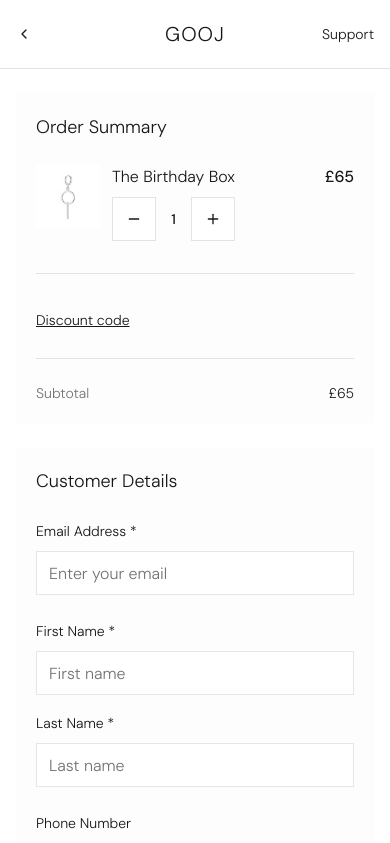
it: checkout promotion flow › shows an error for an invalid promotion
The width and height of the screenshot is (390, 843).
Click the button "Discount code" at (83, 320), box x1=36 y1=298 x2=130 y2=342
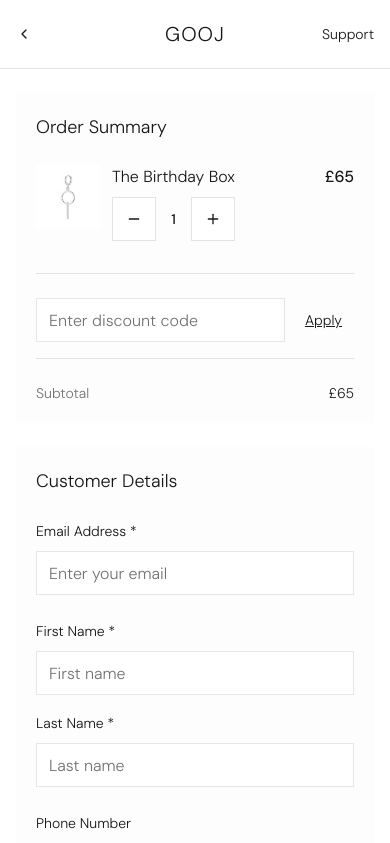
Type "missing" into the field with placeholder "Enter discount code" at (160, 320), box x1=36 y1=298 x2=285 y2=342
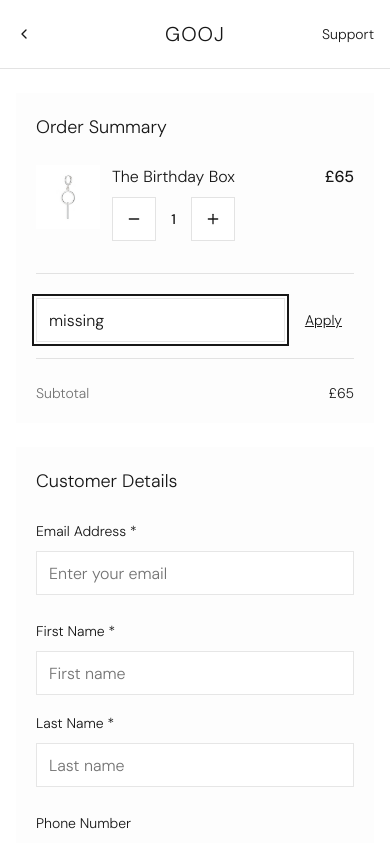
Click the button "Apply" at (323, 320), box x1=293 y1=298 x2=354 y2=342
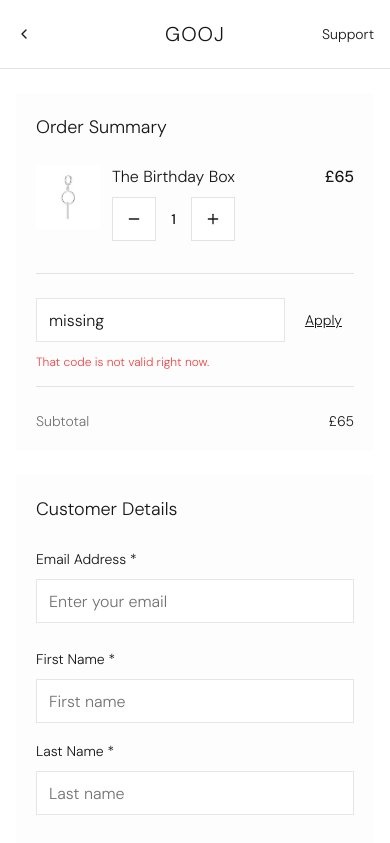
Check: the message reads "That code is not valid right now.", box x1=36 y1=354 x2=209 y2=370
